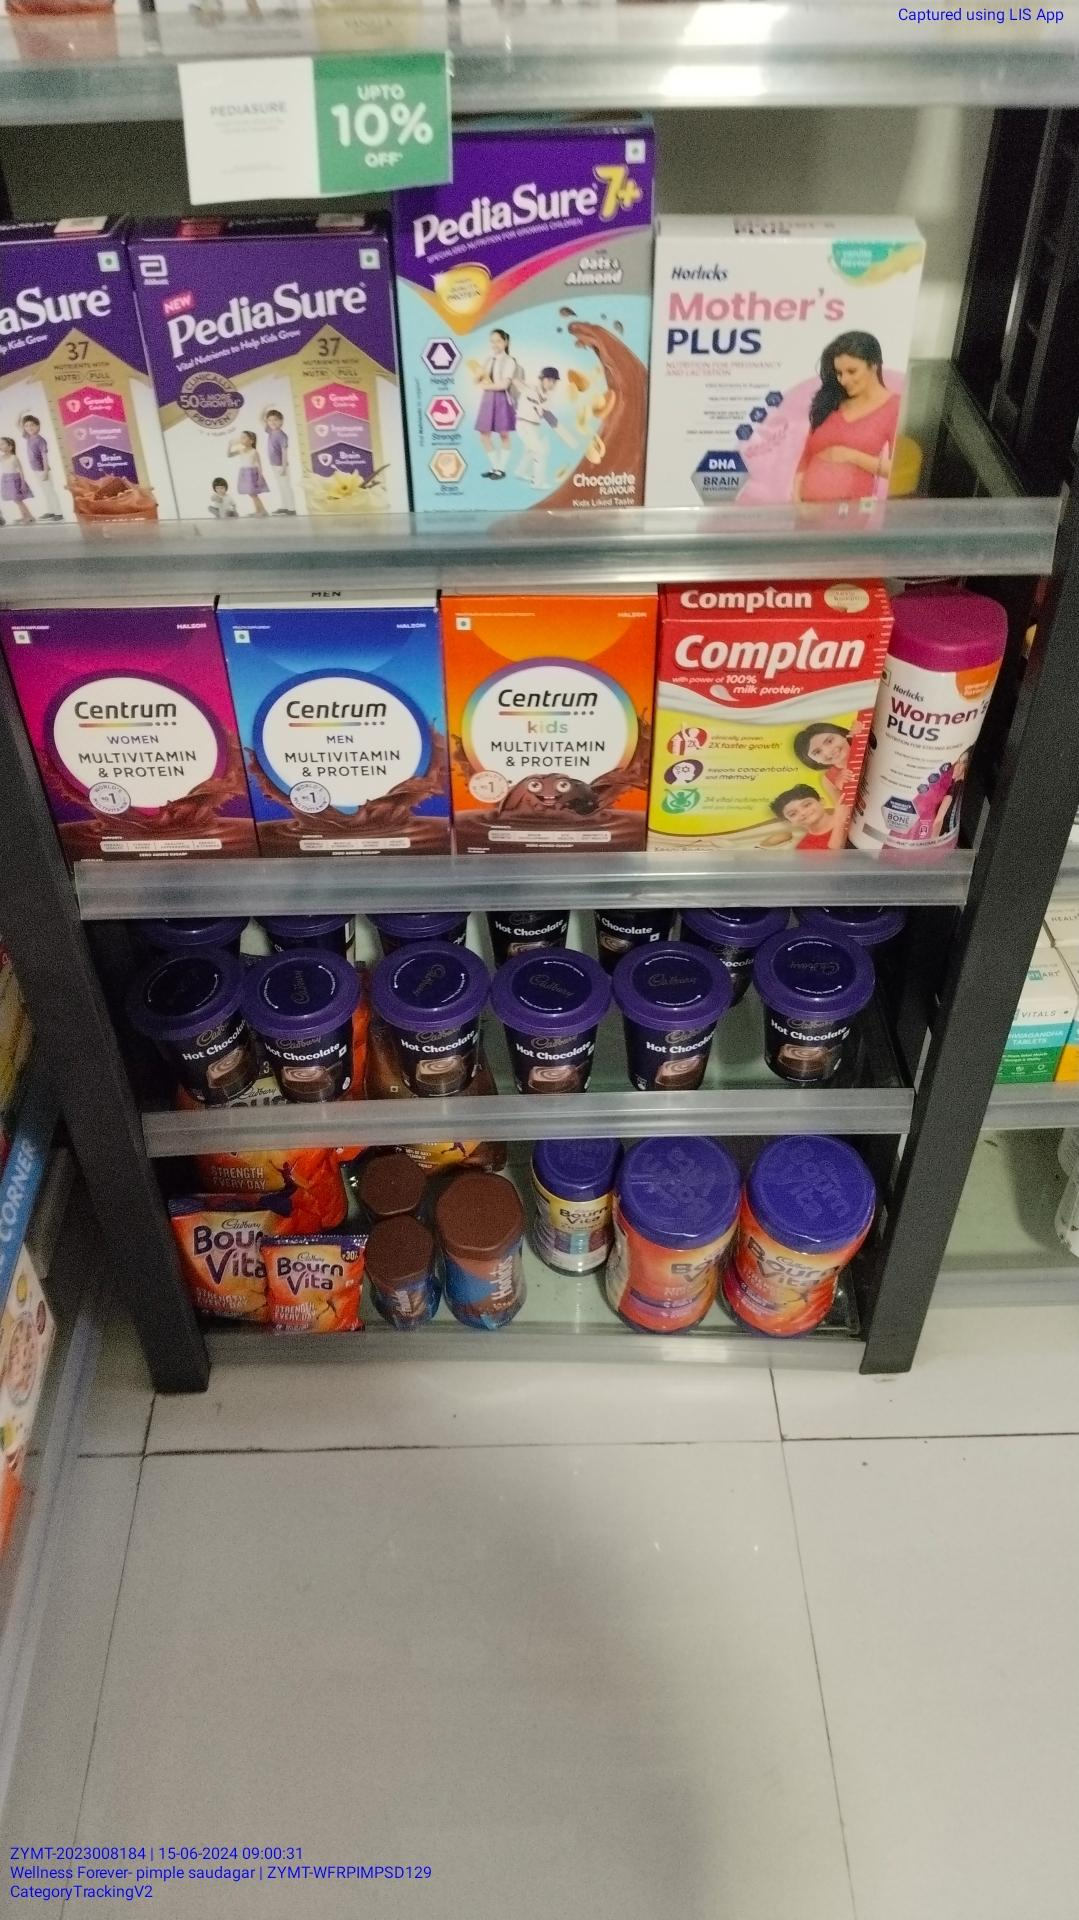COMPLAN_KESAR_BADAM_500_GMS_PACK: (657, 611, 855, 862)
PEDIASURE_VANILLA_500_G_PACK: (160, 239, 386, 514)
